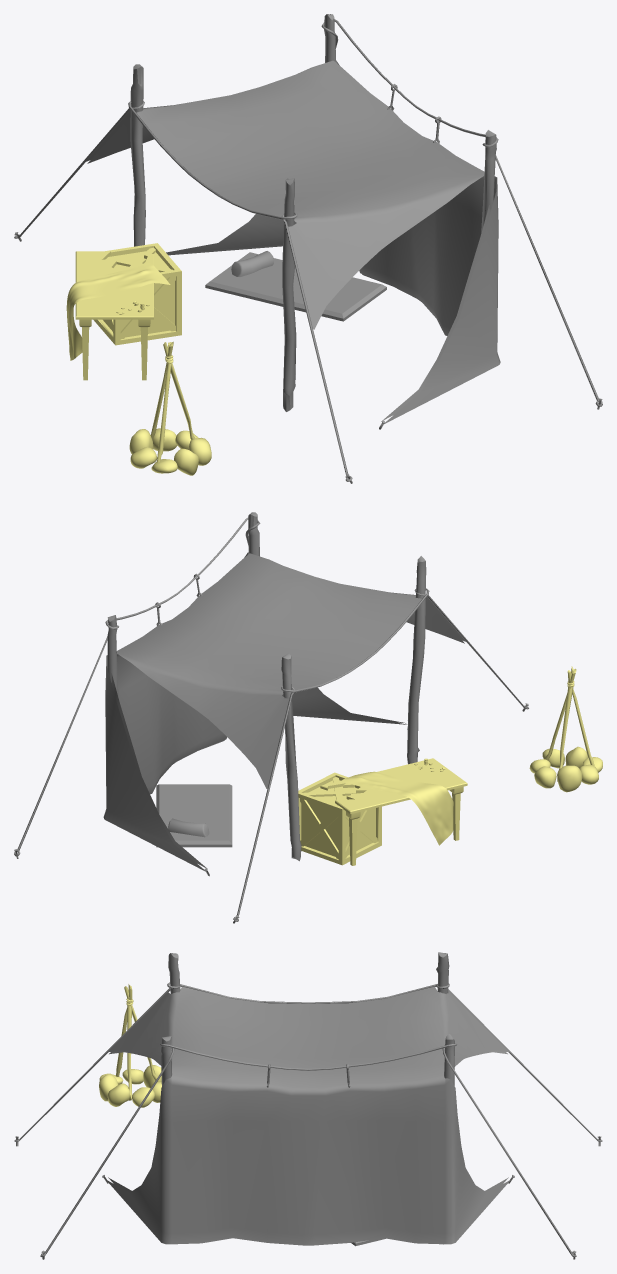
File: Camp.fbx
3 renders of one model, top to bottom at view 1: azimuth 30°, elevation 25°; view 2: azimuth 150°, elevation 25°; view 3: azimuth 270°, elevation 25°, orthographic. The views are drawn at different scales.
Parts seen in each view (by area): view 1: Tent, Table, Fire; view 2: Tent, Table, Fire; view 3: Tent, Fire.
Boxes of the visible parts, box(x1,y1,x2,y2) form: Tent: box(14, 14, 602, 483); Table: box(66, 243, 181, 380); Fire: box(129, 341, 211, 475); Tent: box(14, 512, 528, 923); Table: box(298, 758, 467, 865); Fire: box(529, 666, 602, 792); Tent: box(14, 952, 602, 1259); Fire: box(99, 984, 161, 1107).
Bounding box in the file's own units: 127 × 69.55 × 176.
